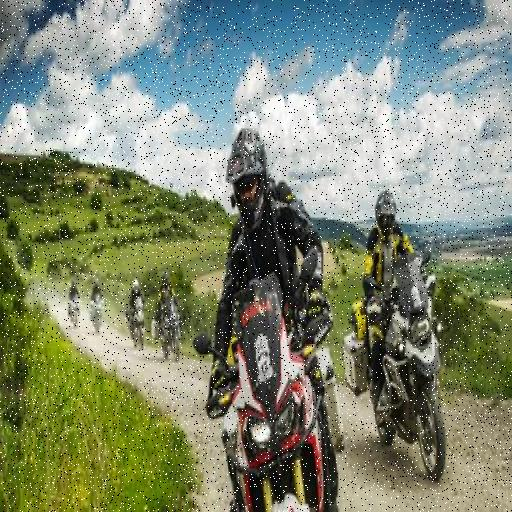Helmet: (226, 126, 269, 228), (373, 187, 399, 237), (160, 273, 172, 291), (132, 277, 140, 294)
Motor: (213, 297, 331, 512), (346, 272, 450, 466), (154, 299, 180, 357), (126, 308, 145, 352)
